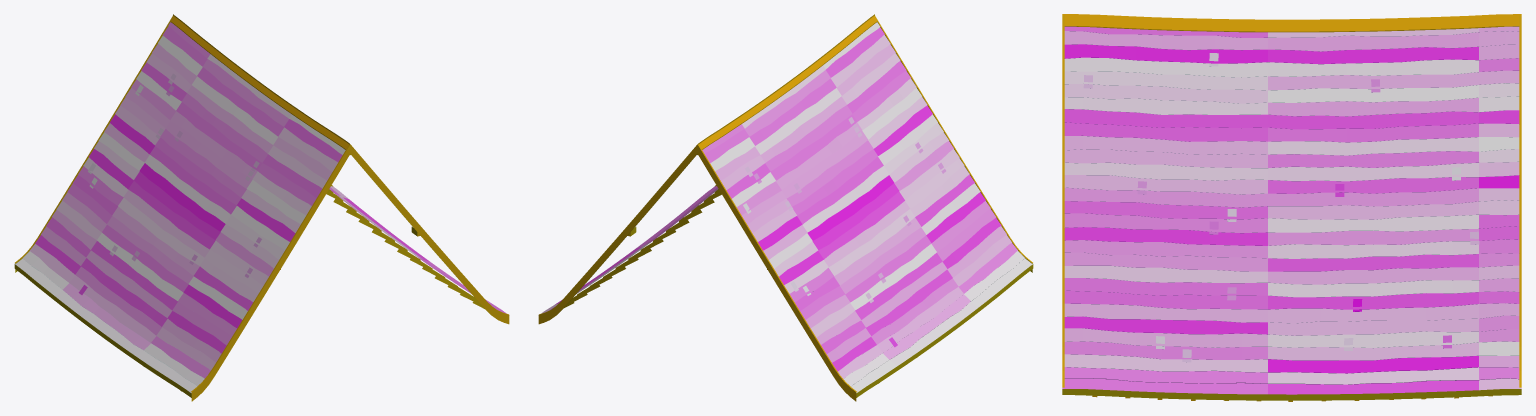
File: roof_s_8x8.glb
The picture shows the model from 3 angles, left to right: view 1: azimuth 30°, elevation 25°; view 2: azimuth 150°, elevation 25°; view 3: azimuth 270°, elevation 25°; orthographic projection. The views are drawn at different scales.
Visible parts, largest first — view 1: roof_s_8x8; view 2: roof_s_8x8; view 3: roof_s_8x8.
Boxes of the visible parts, x1=… form: roof_s_8x8: x1=14, y1=14, x2=509, y2=401; roof_s_8x8: x1=538, y1=14, x2=1033, y2=401; roof_s_8x8: x1=1062, y1=14, x2=1521, y2=401.
Size of the model in its own units: 9.04 by 6.02 by 8.7.
